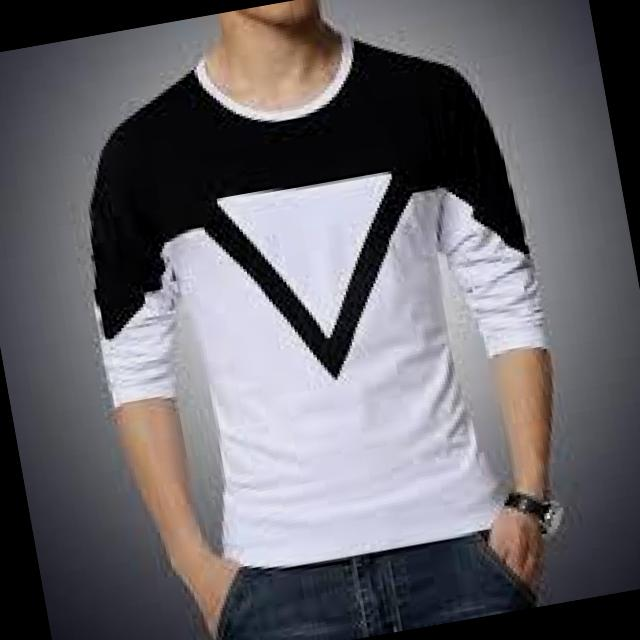Tshirt: (48, 2, 582, 598)
